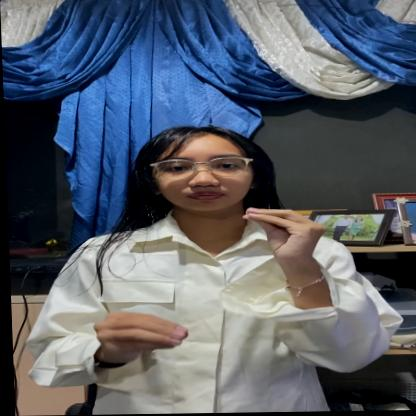Fix: (93, 204, 336, 371)
